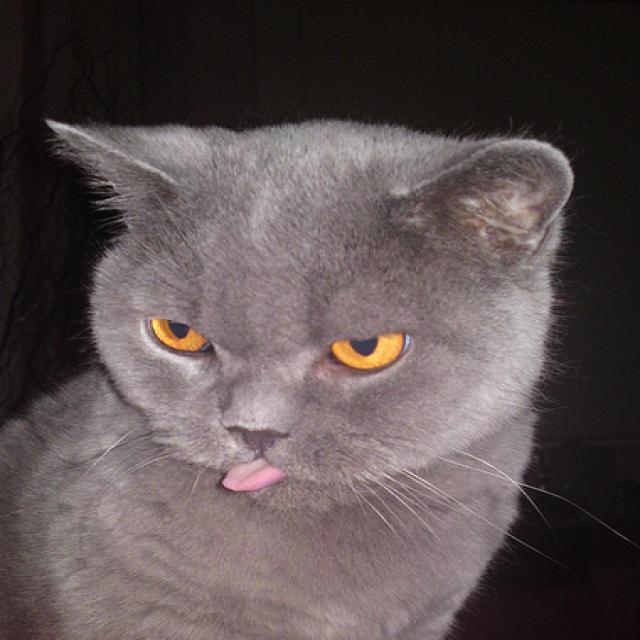British Shorthair: (0, 106, 576, 640)
